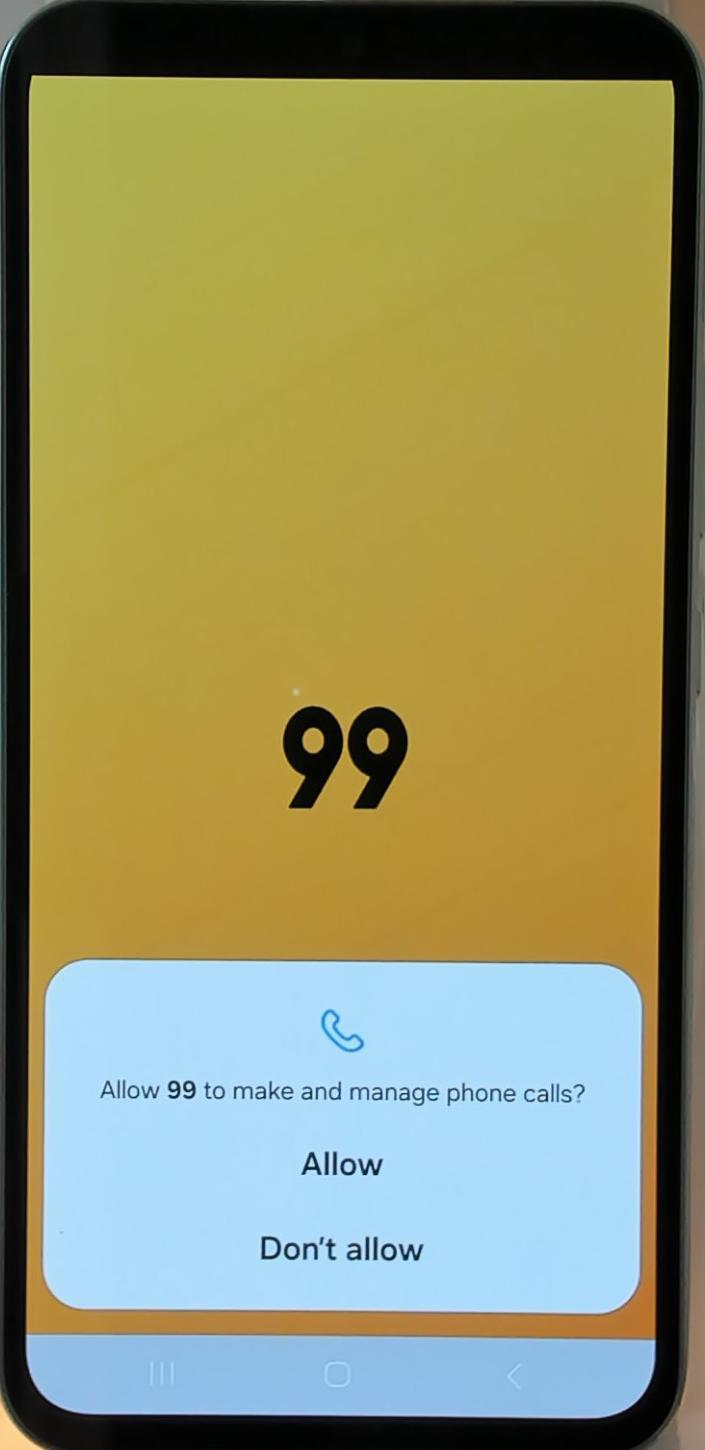CommunBotton: (256, 1224, 434, 1274), (288, 1128, 394, 1188), (496, 1346, 548, 1402), (142, 1346, 190, 1400), (316, 1352, 362, 1404)
